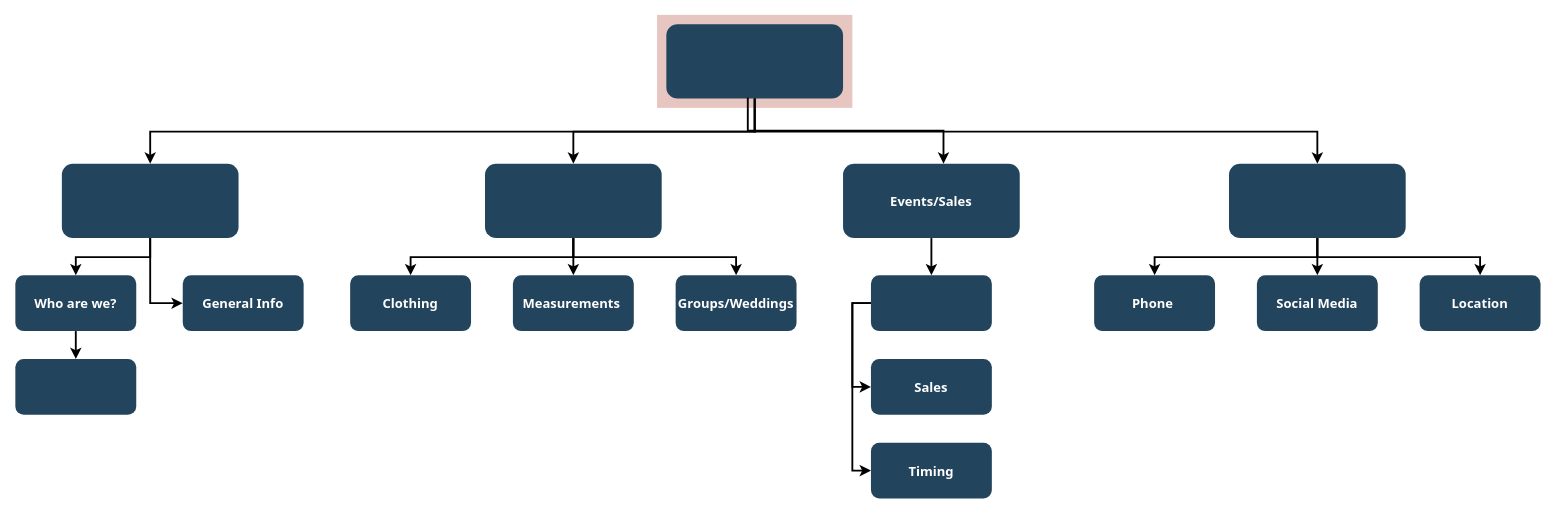
Image size: 1556x513. Some labels were removed from this diagram. Each missing label, with the box of its shape:
About Us: (61, 163, 238, 238)
Contant Us: (1229, 163, 1405, 238)
History: (15, 359, 136, 414)
Home: (666, 24, 843, 98)
Products/Services: (485, 163, 661, 238)
Special Events: (870, 275, 991, 331)
